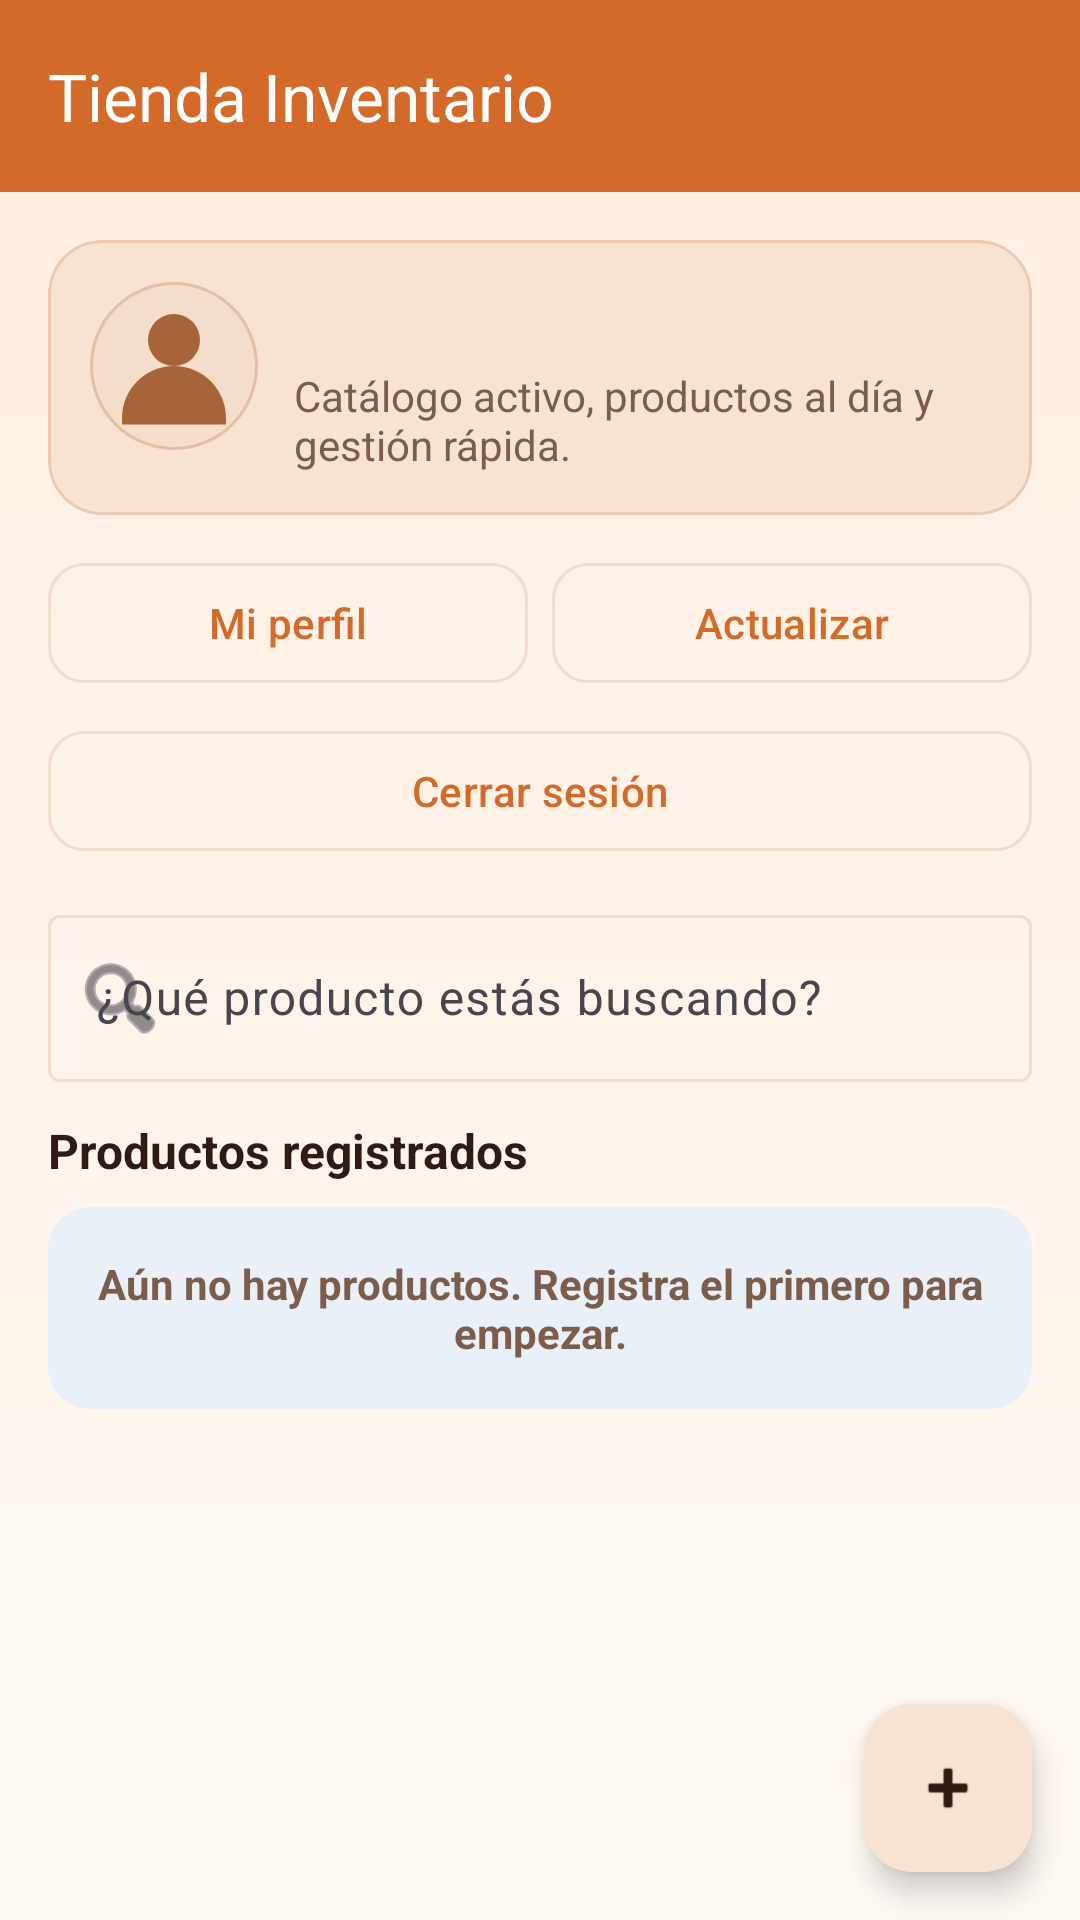

Icons on this 1080x1920 Android screen, each with its box as (x1, y1, x2, y2):
Crear producto: (864, 1704, 1032, 1872)
